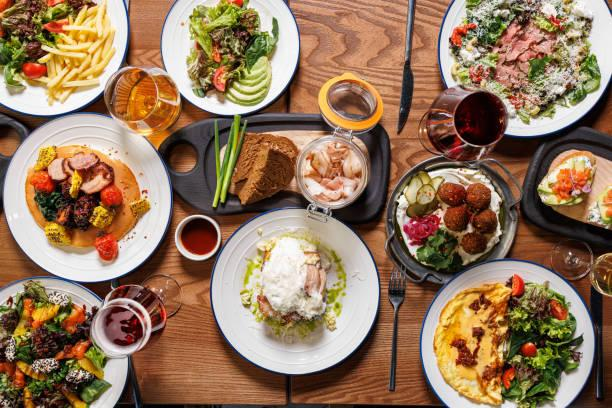Braised Crucian Carp: (207, 207, 377, 374), (5, 112, 173, 280), (417, 259, 595, 407), (436, 0, 610, 139), (384, 155, 518, 284), (0, 276, 129, 407), (160, 0, 300, 118)
